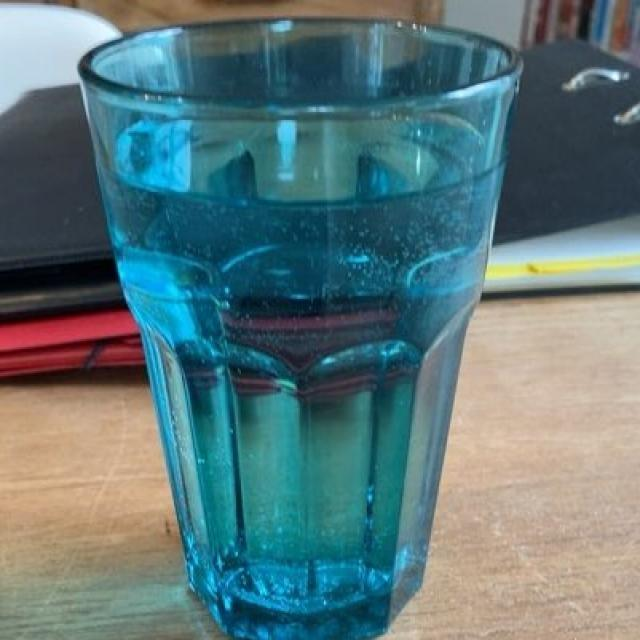water: (117, 134, 489, 594)
